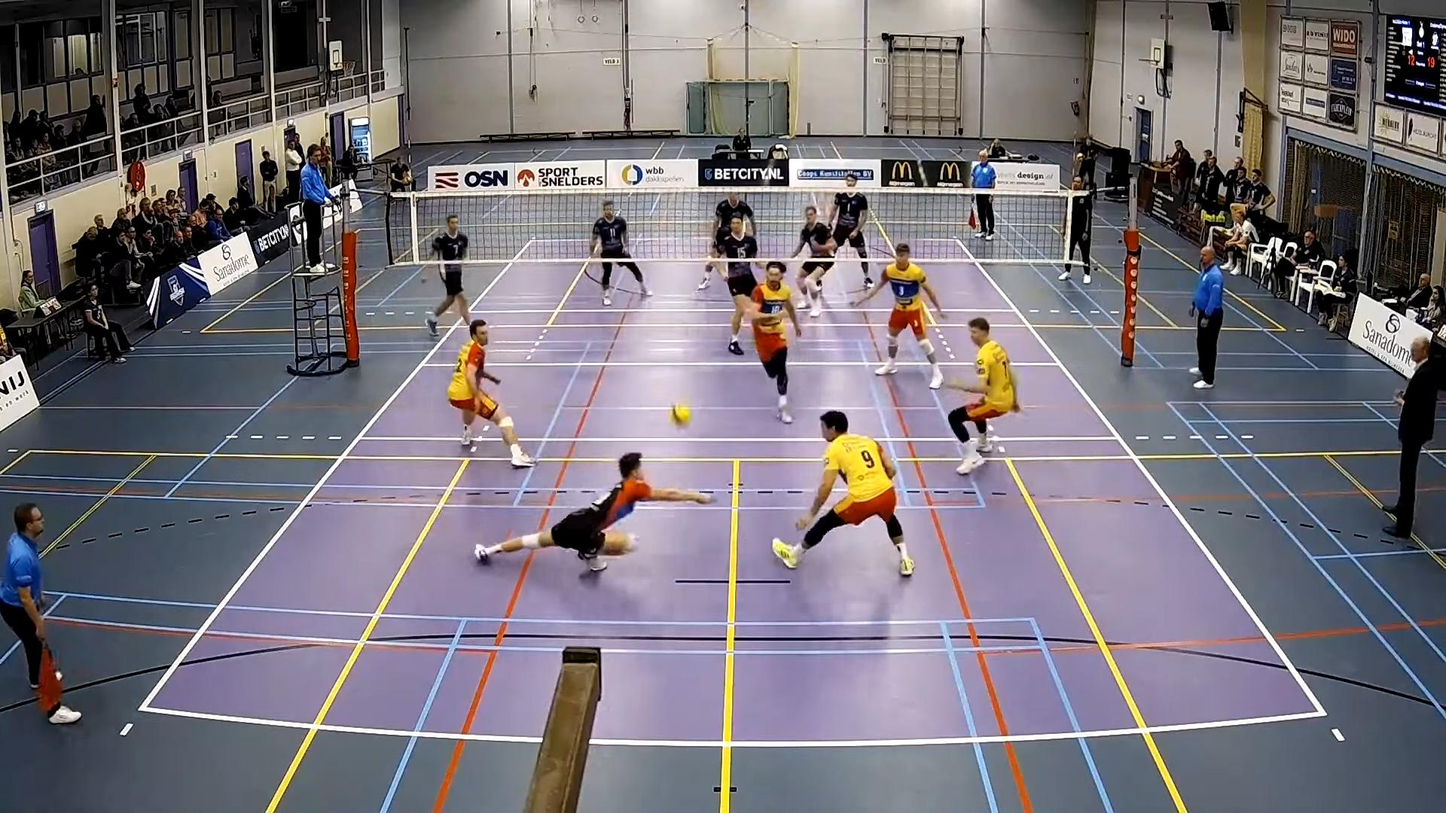Dig: (470, 449, 724, 586)
Player: (772, 411, 914, 575), (854, 243, 944, 388), (447, 319, 533, 467), (947, 318, 1019, 473), (752, 261, 801, 423), (590, 200, 651, 306), (717, 215, 758, 355), (426, 215, 470, 337), (829, 172, 874, 287), (791, 207, 837, 317), (710, 191, 755, 260)
ball: (671, 403, 688, 423)
